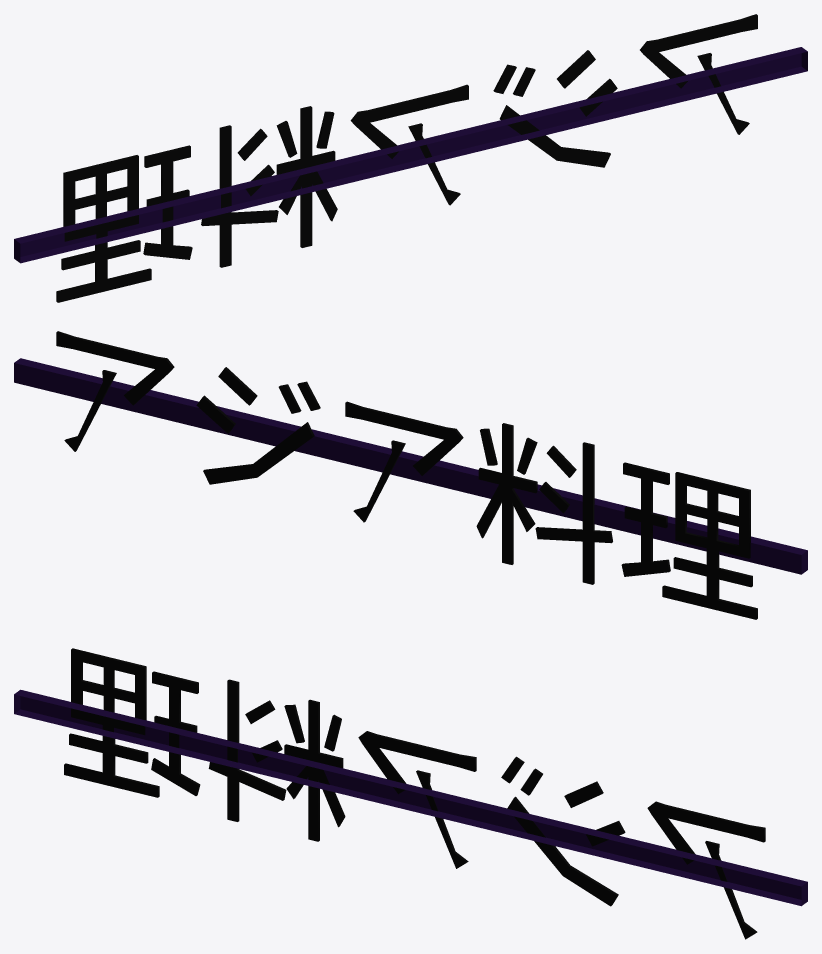
File: SignJap2.fbx
3 views of the same model, one above another, from view 1: azimuth 30°, elevation 25°; view 2: azimuth 150°, elevation 25°; view 3: azimuth 330°, elevation 25° (orthographic).
Visible parts, largest first — view 1: Cube.007; view 2: Cube.007; view 3: Cube.007.
Part boxes in pixels (x1,y1,x2,y2): Cube.007: (14,14,807,302); Cube.007: (14,331,807,619); Cube.007: (14,648,807,939).
Size of the model in its own units: 2762 by 466 by 48.32.
